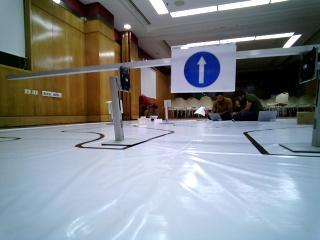straight: (172, 46, 240, 94)
